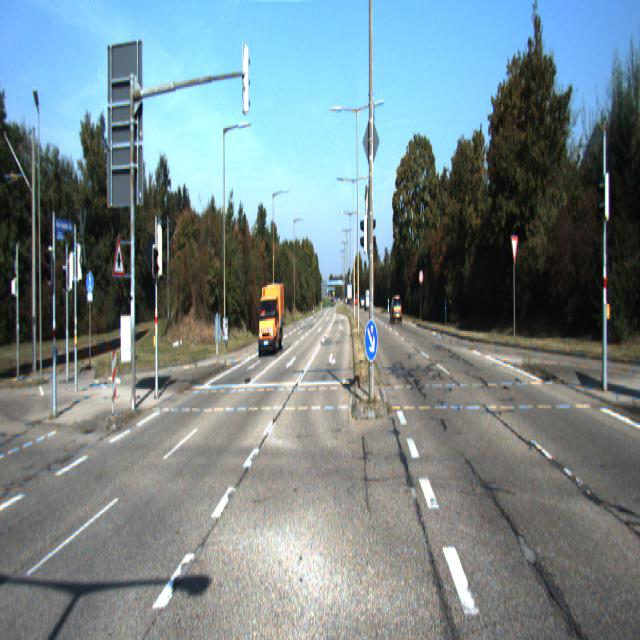Car: (253, 280, 284, 358), (391, 296, 402, 324)
